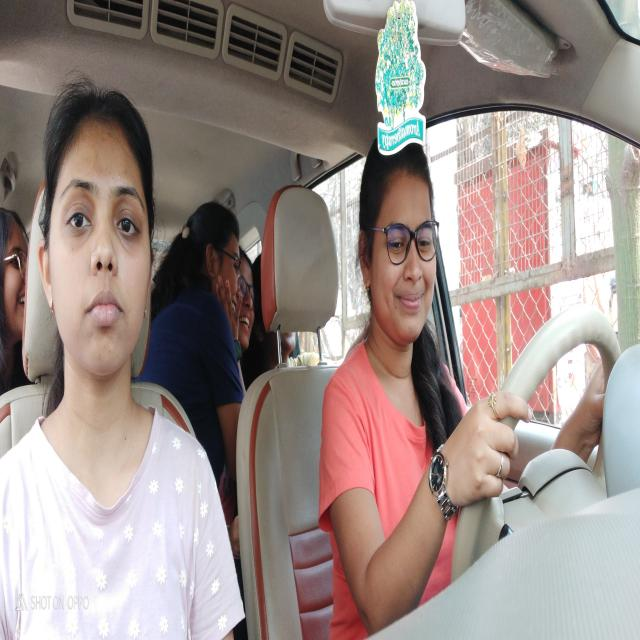person: (38, 80, 160, 378), (356, 136, 446, 356), (209, 190, 242, 336), (0, 199, 30, 350), (235, 237, 258, 355)
